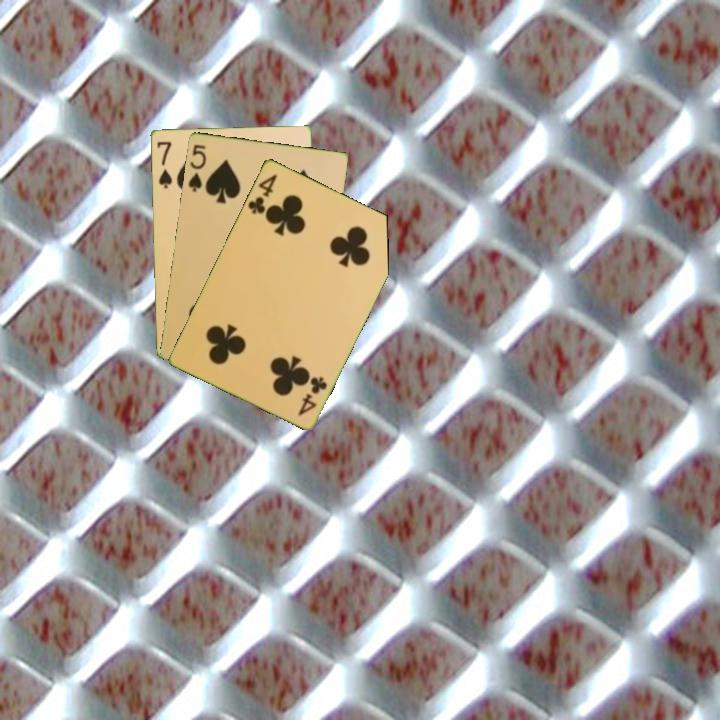4c: (244, 170, 280, 217), (294, 373, 330, 418)
5s: (184, 141, 209, 194)
7s: (153, 137, 174, 191)
